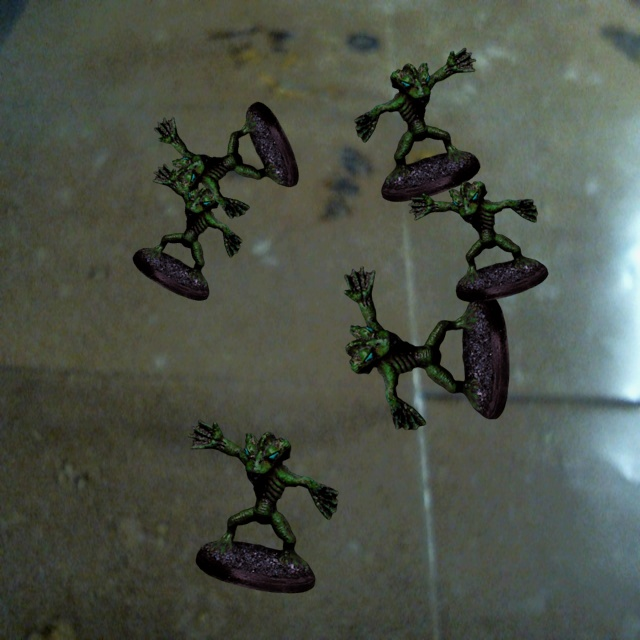pieza_juego: (344, 266, 509, 429), (188, 420, 338, 593), (354, 48, 480, 201), (154, 102, 298, 218), (409, 181, 548, 301), (133, 164, 242, 300)
